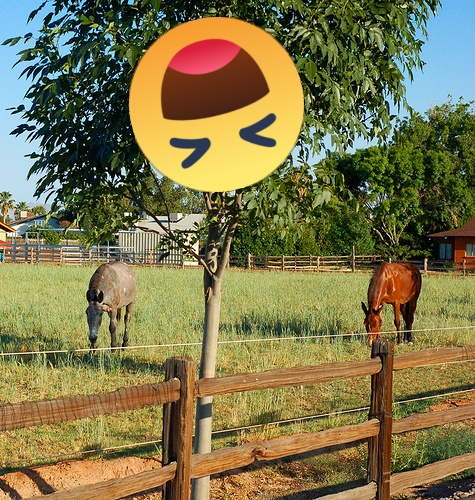haha: (129, 17, 304, 192)
